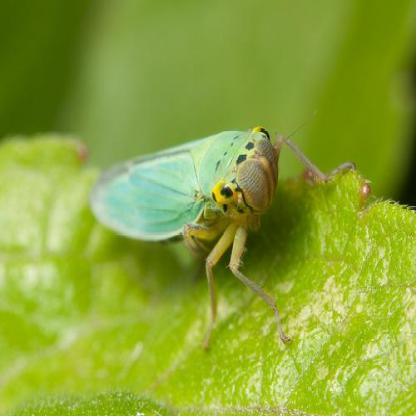Green-Leafhopper: (87, 119, 319, 350)
